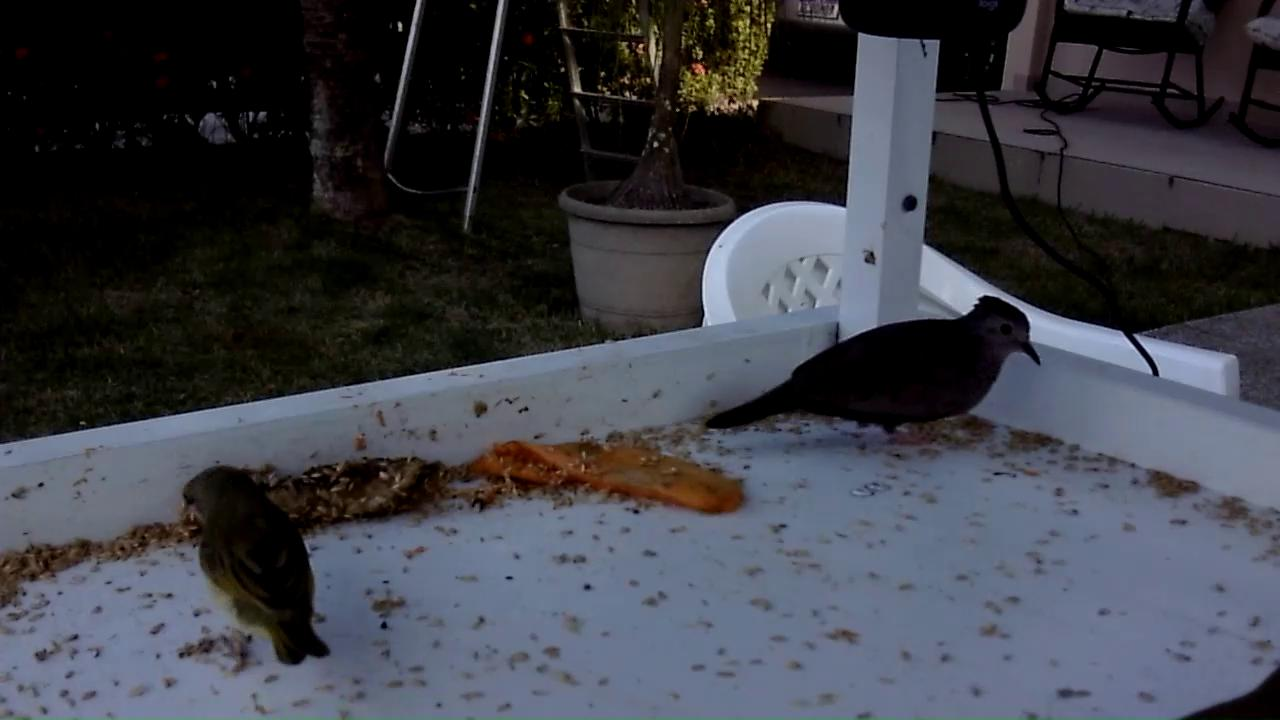canario_do_amazonas: (179, 465, 334, 670)
rolinha: (702, 295, 1047, 449)
